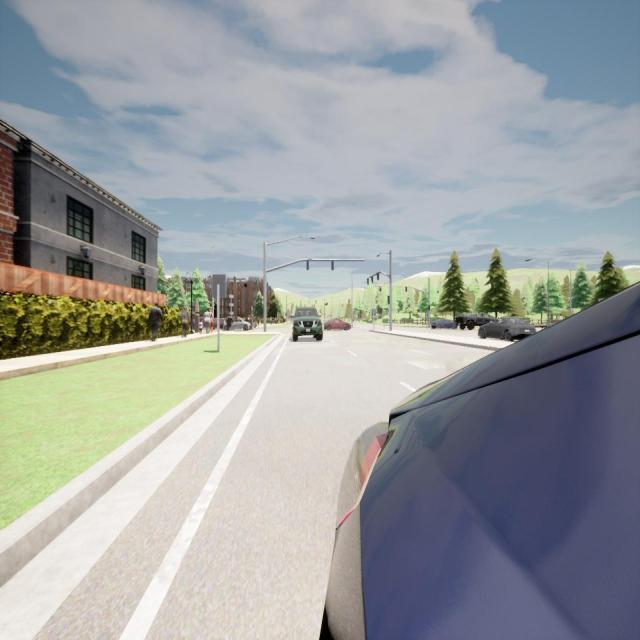Pedestrian: (149, 303, 163, 341), (180, 306, 190, 339), (202, 306, 211, 333), (209, 310, 214, 333), (197, 319, 204, 334), (228, 317, 232, 331), (247, 316, 251, 328), (269, 316, 273, 325), (252, 318, 255, 329), (257, 316, 260, 326), (224, 320, 226, 330)
Traffic_Signs: (212, 275, 225, 297), (372, 309, 376, 315)
Vehicle: (326, 284, 640, 638), (478, 317, 536, 339), (291, 306, 323, 341), (456, 314, 494, 331), (324, 319, 352, 331), (432, 318, 454, 330), (233, 316, 250, 331)
traffic_light: (306, 260, 309, 270), (331, 260, 334, 270), (387, 296, 390, 304), (379, 286, 382, 292), (367, 278, 369, 285), (371, 276, 373, 283), (377, 273, 379, 280), (428, 305, 430, 311), (406, 286, 407, 292)
